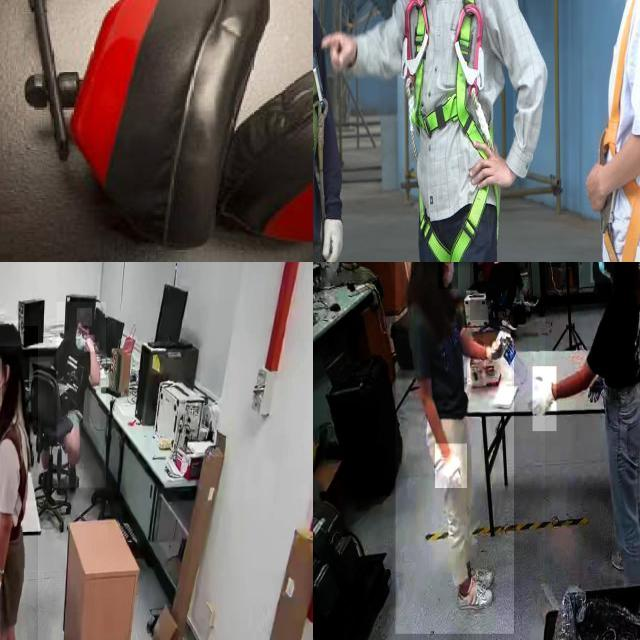Ear-protection: (30, 0, 313, 249)
Harness: (406, 0, 501, 262), (598, 0, 640, 262)
face_mask: (438, 262, 458, 288), (590, 262, 613, 282), (74, 328, 86, 356)
hand_glove: (533, 366, 557, 432), (489, 328, 518, 381), (435, 443, 467, 489)
hand_noglove: (84, 334, 95, 352)
head_nohelmet: (0, 320, 21, 347), (77, 308, 93, 327)
person: (395, 262, 514, 634), (545, 262, 640, 603), (0, 325, 38, 640), (56, 302, 106, 488), (469, 262, 520, 320)
shoes: (454, 578, 494, 614)
